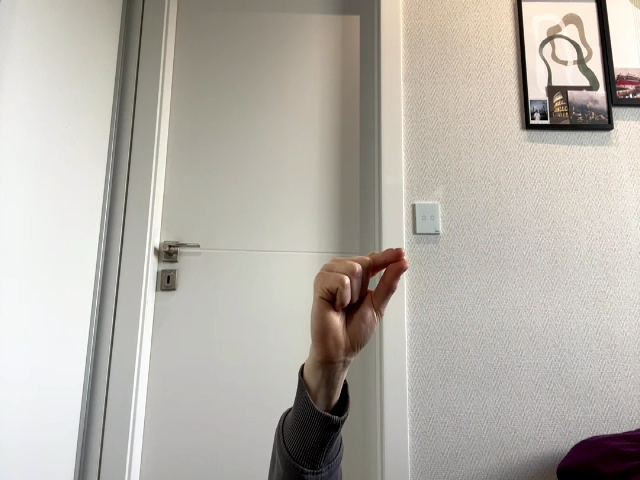P: (309, 246, 407, 357)
